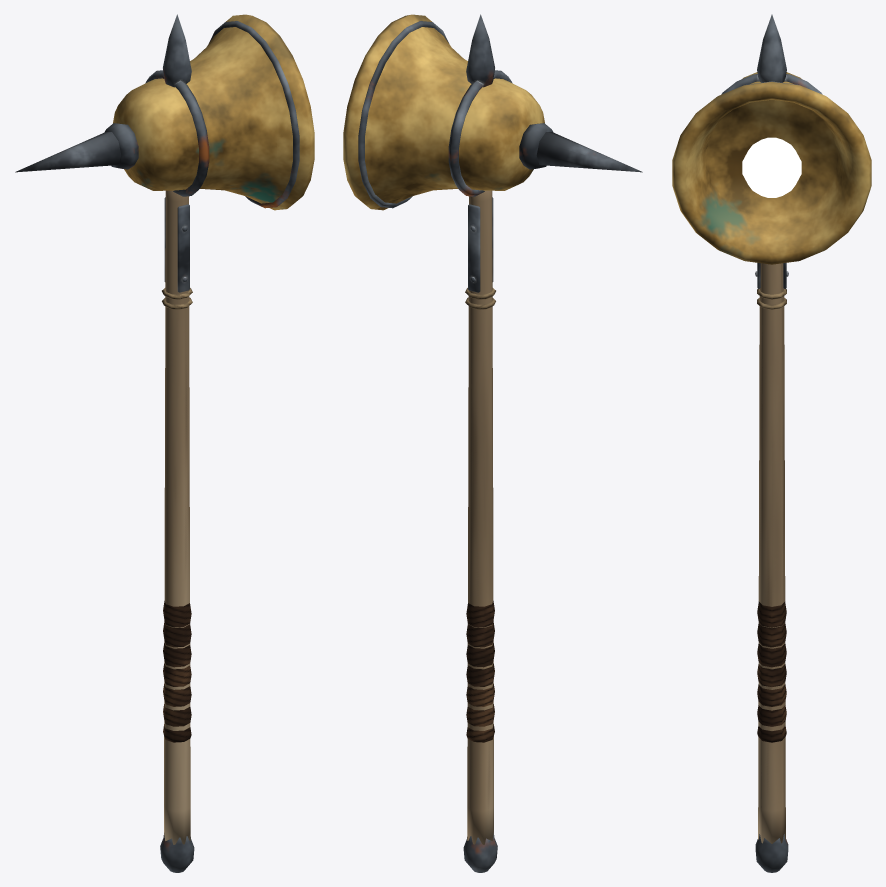
File: BellMaul.fbx
3 views of the same model, side by side, from view 1: azimuth 30°, elevation 25°; view 2: azimuth 150°, elevation 25°; view 3: azimuth 270°, elevation 25° (orthographic).
Visible parts, largest first — view 1: BellMaul; view 2: BellMaul; view 3: BellMaul.
Boxes of the visible parts, x1,y1,x2,y2 form: BellMaul: (15,14,314,872); BellMaul: (343,14,642,872); BellMaul: (672,14,871,872).
Bounding box in the file's own units: 0.5381 × 1.7 × 0.3577.
